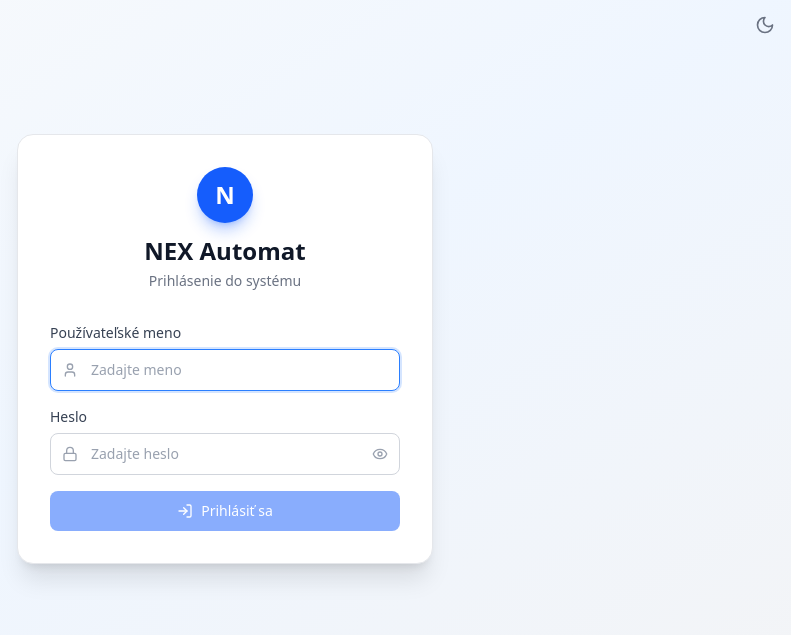
it: LoginScreen › shows server unavailable error on status 0
Type "admin" into the field with test id "username". click: (225,370)
box: top-left (50, 349), bottom-right (400, 391)
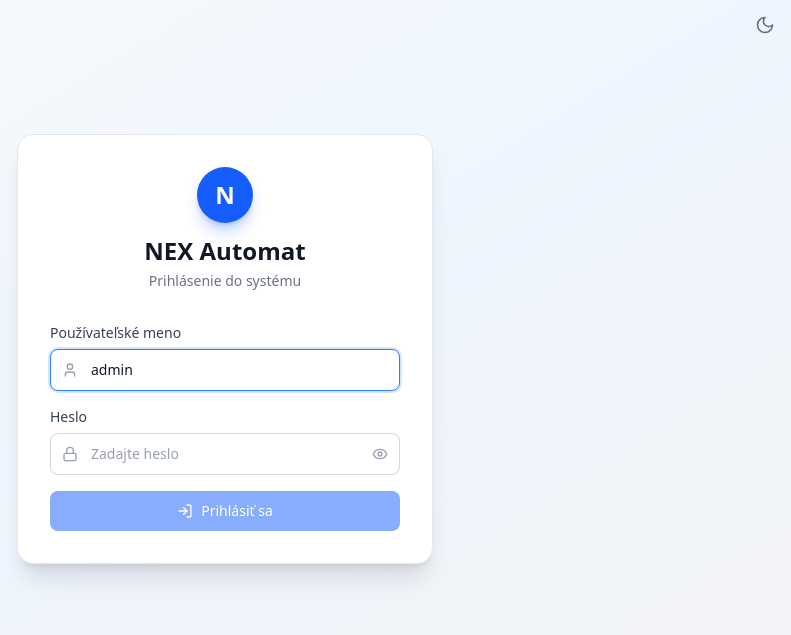
Type "test" into the password field with test id "password". click: (225,454)
box: top-left (50, 433), bottom-right (400, 475)
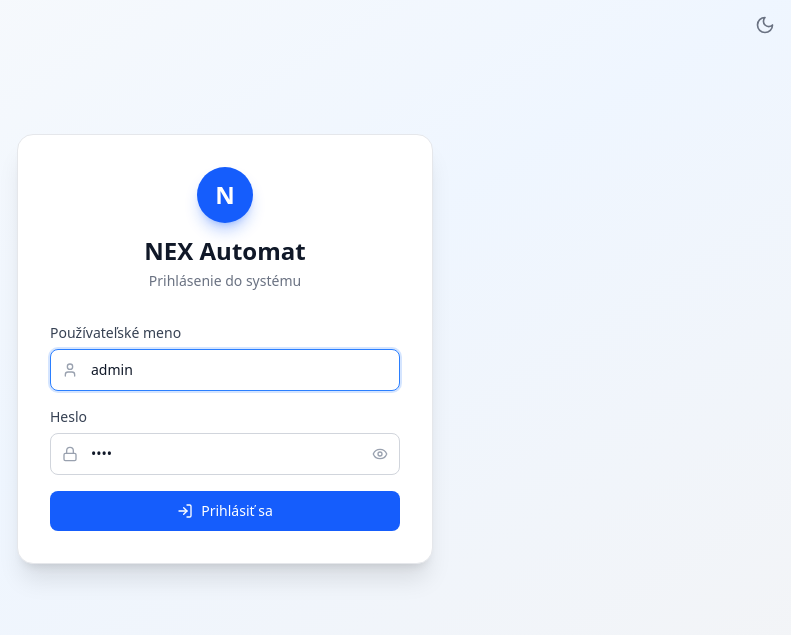
Click the button with test id "login-button". click: (225,511)
box: top-left (50, 491), bottom-right (400, 531)
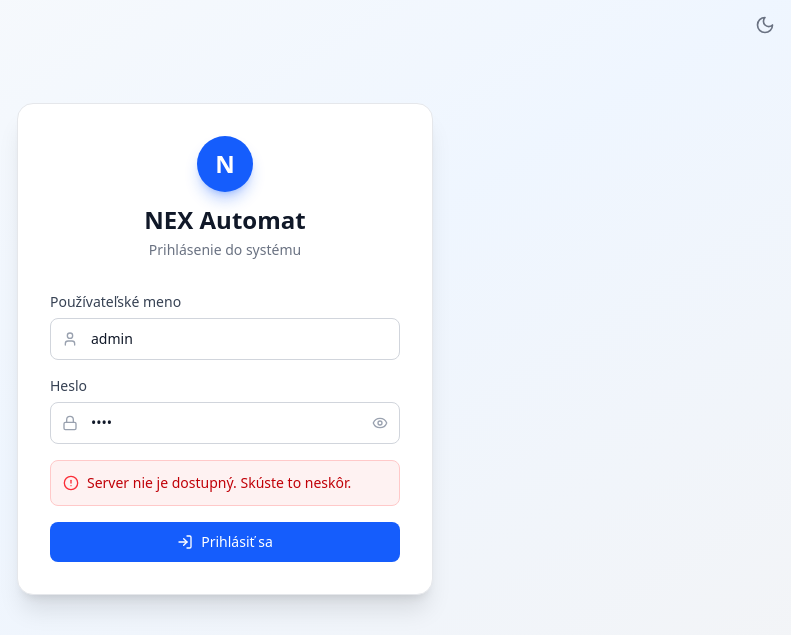
Expected: the text "Server nie je dostupný. Skúste to neskôr." is shown, top-left (87, 473), bottom-right (351, 493)
